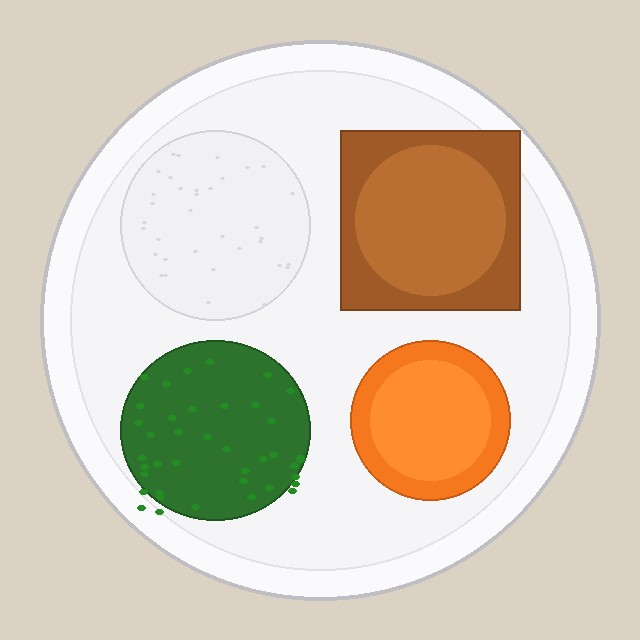buah: (350, 340, 510, 500)
karbohidrat: (120, 130, 310, 320)
protein_hewani: (340, 130, 520, 310)
sayuran: (120, 340, 310, 520)
